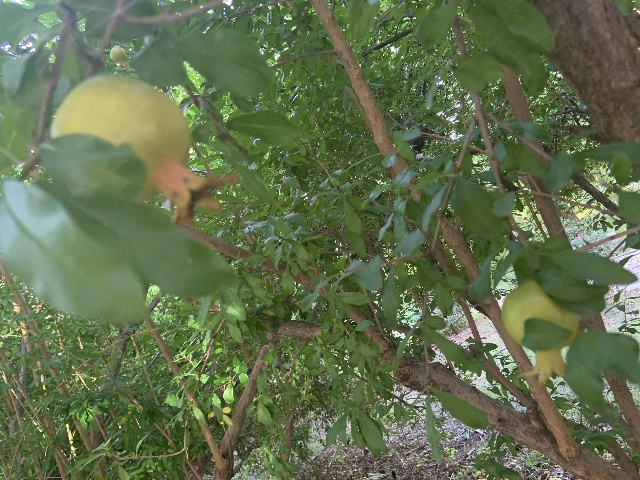mid-growth: (49, 74, 238, 229), (500, 280, 580, 386), (110, 45, 127, 69)
